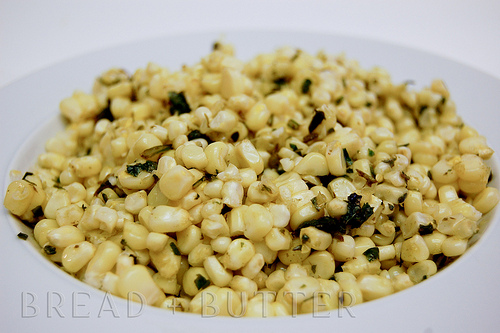corn: (4, 38, 498, 315)
